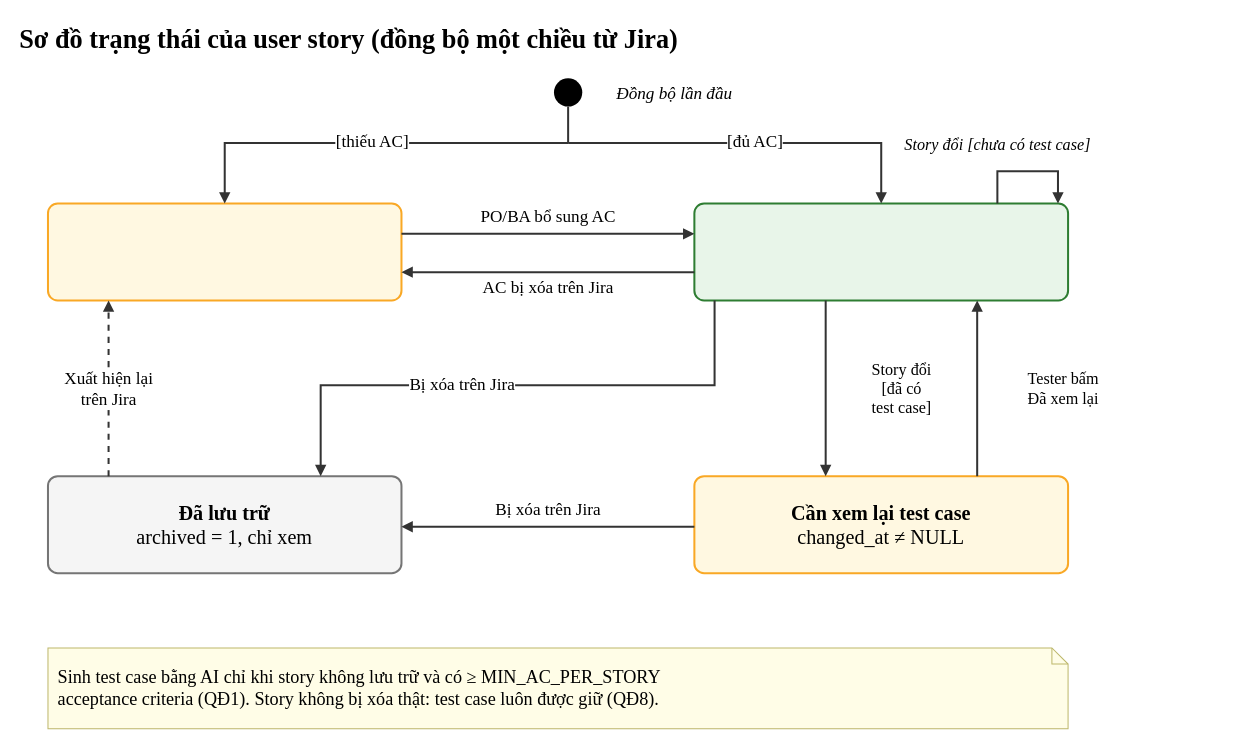
The diagram is 1246 pixels wide and 746 high, and some of its shapes have lost their labels. The shapes that lost their labels are listed below. From the top down, each one's centre as x and y in pixels, then its label:
point (224, 251): Thiếu acceptance criteria chưa sinh được test case
point (881, 251): Sẵn sàng sinh / viết test case được
